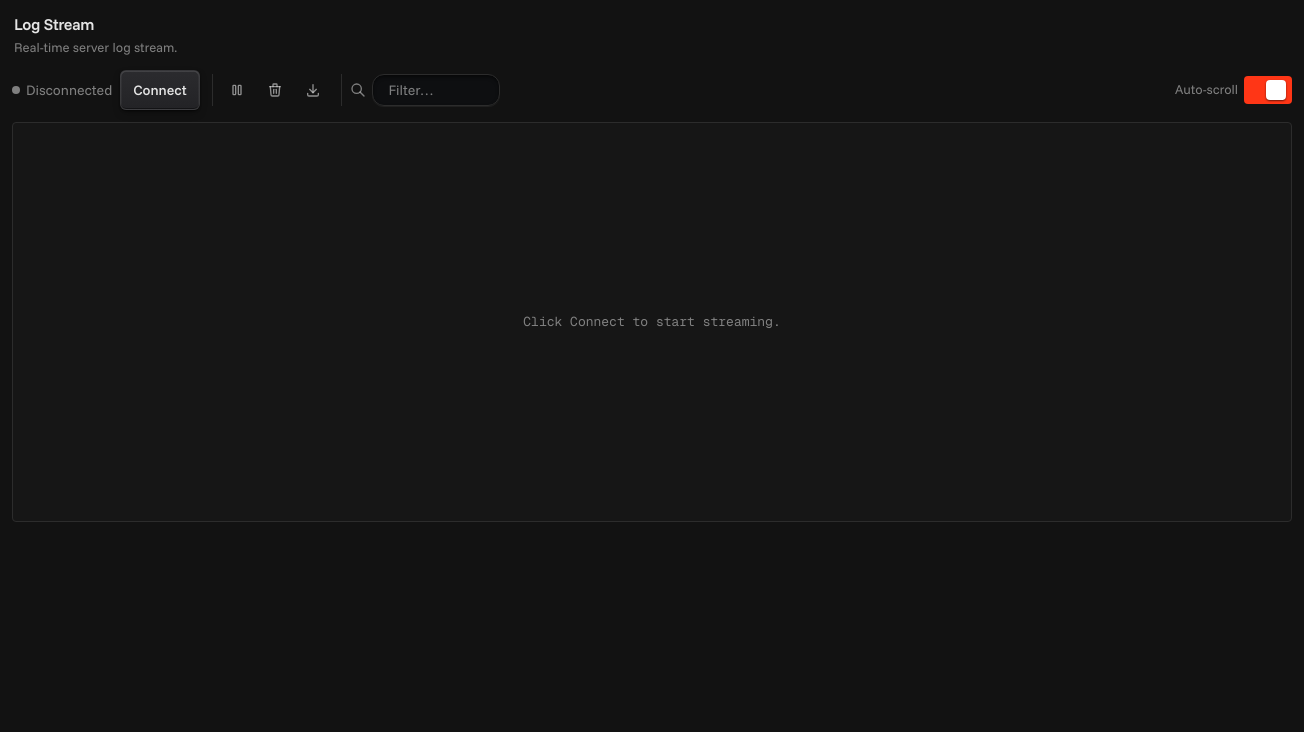
Scenario: AdminLogViewer › probes before opening SSE and returns to idle on disconnect
Click the button "Connect". click: (160, 90)
box: [120,70,200,110]
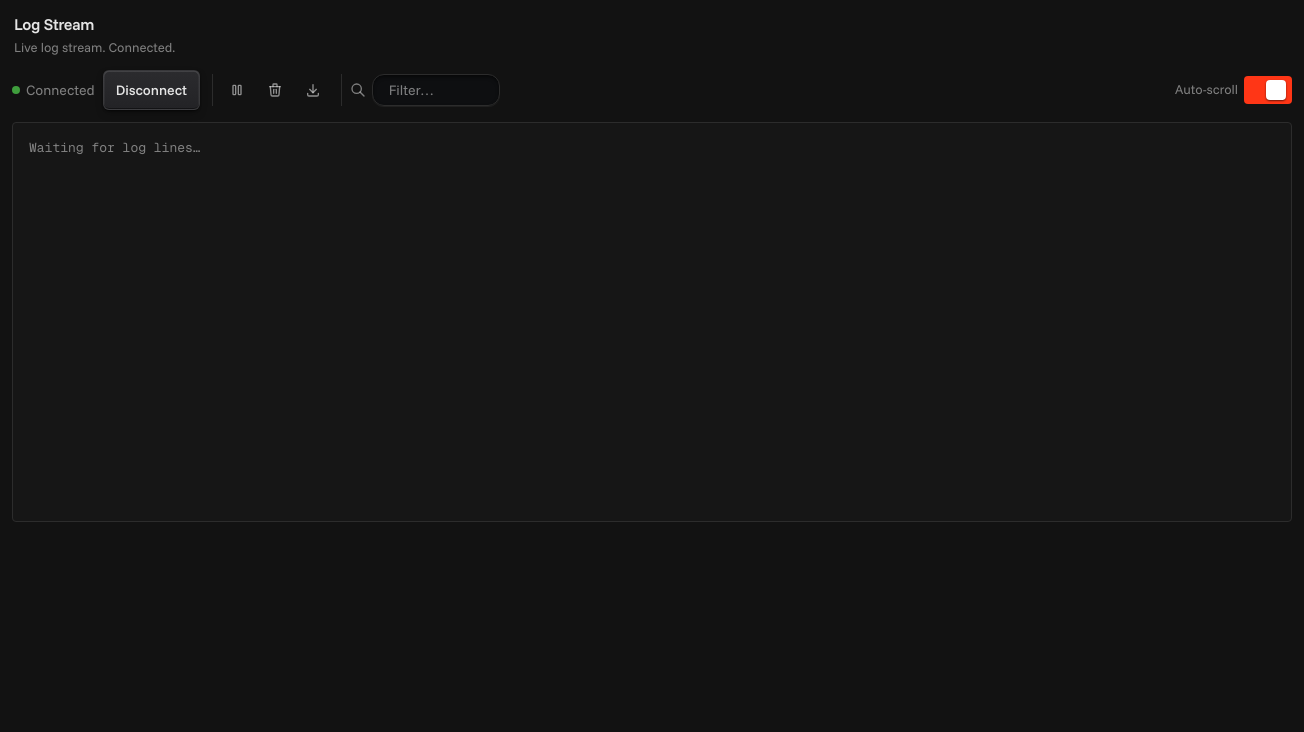
Expected: the text "Connected" is shown, [26,80,95,100]
Click the button "Disconnect". click: (151, 90)
box: [103,70,200,110]
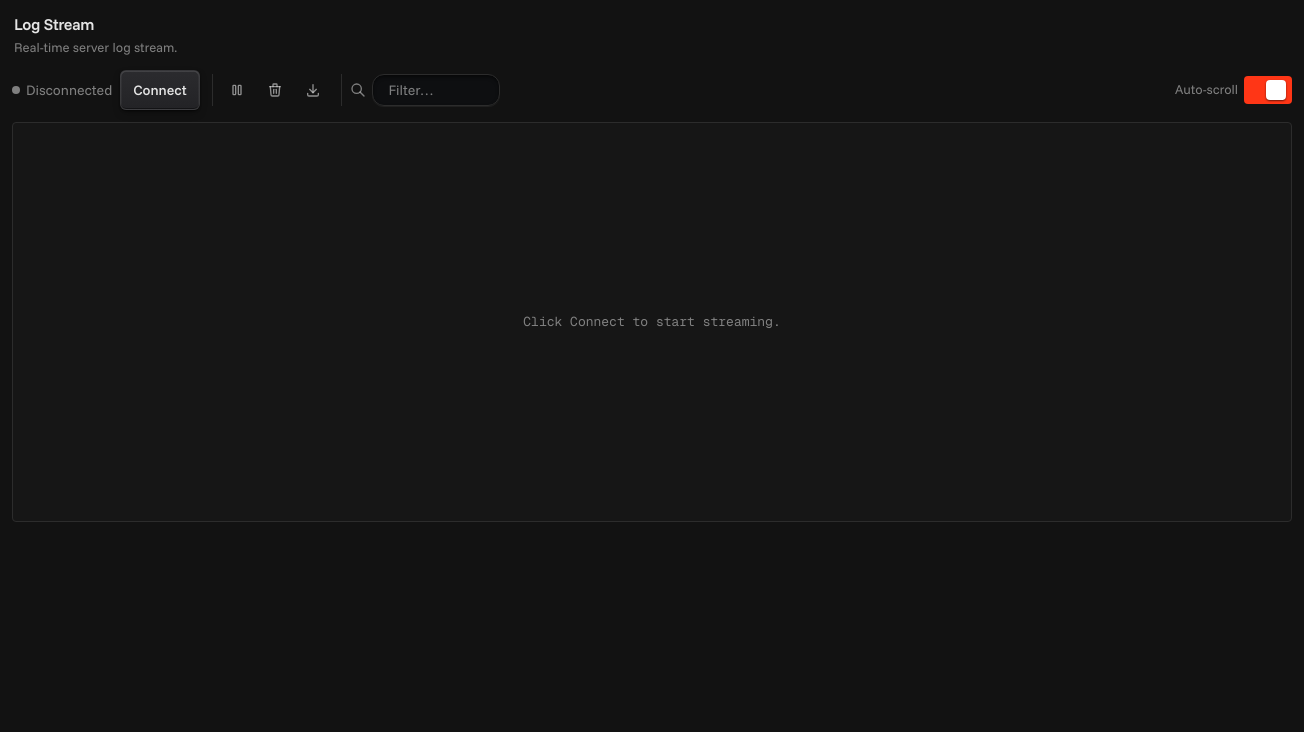
Result: the text "Disconnected" is shown at [26,80,112,100]
